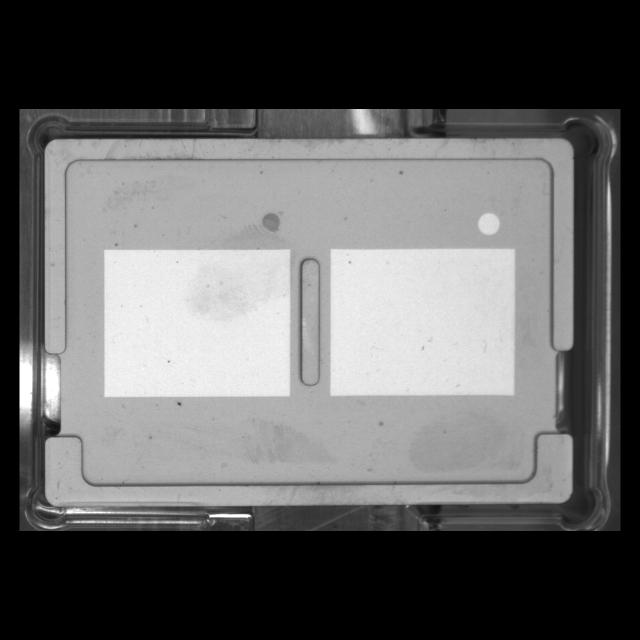door: (30, 424, 581, 518)
point: (468, 204, 509, 242)
